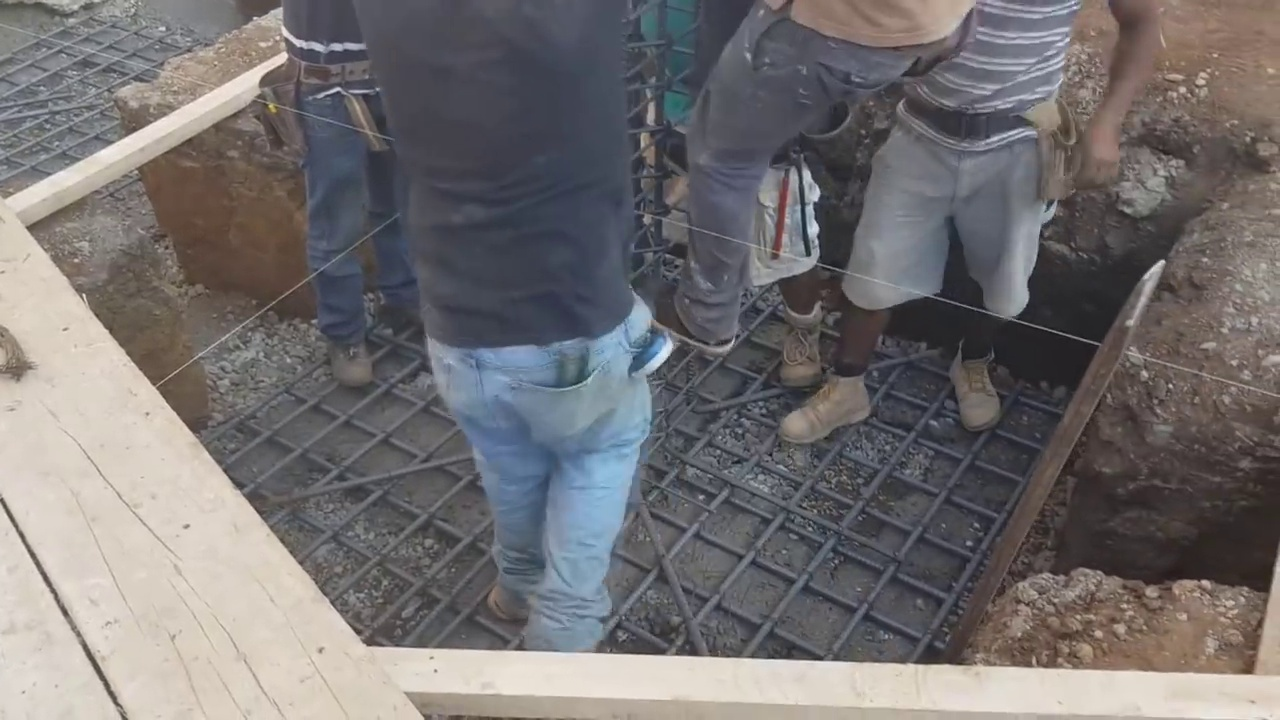person: (333, 0, 678, 628), (781, 0, 1165, 444), (680, 1, 986, 357), (269, 8, 389, 377)
